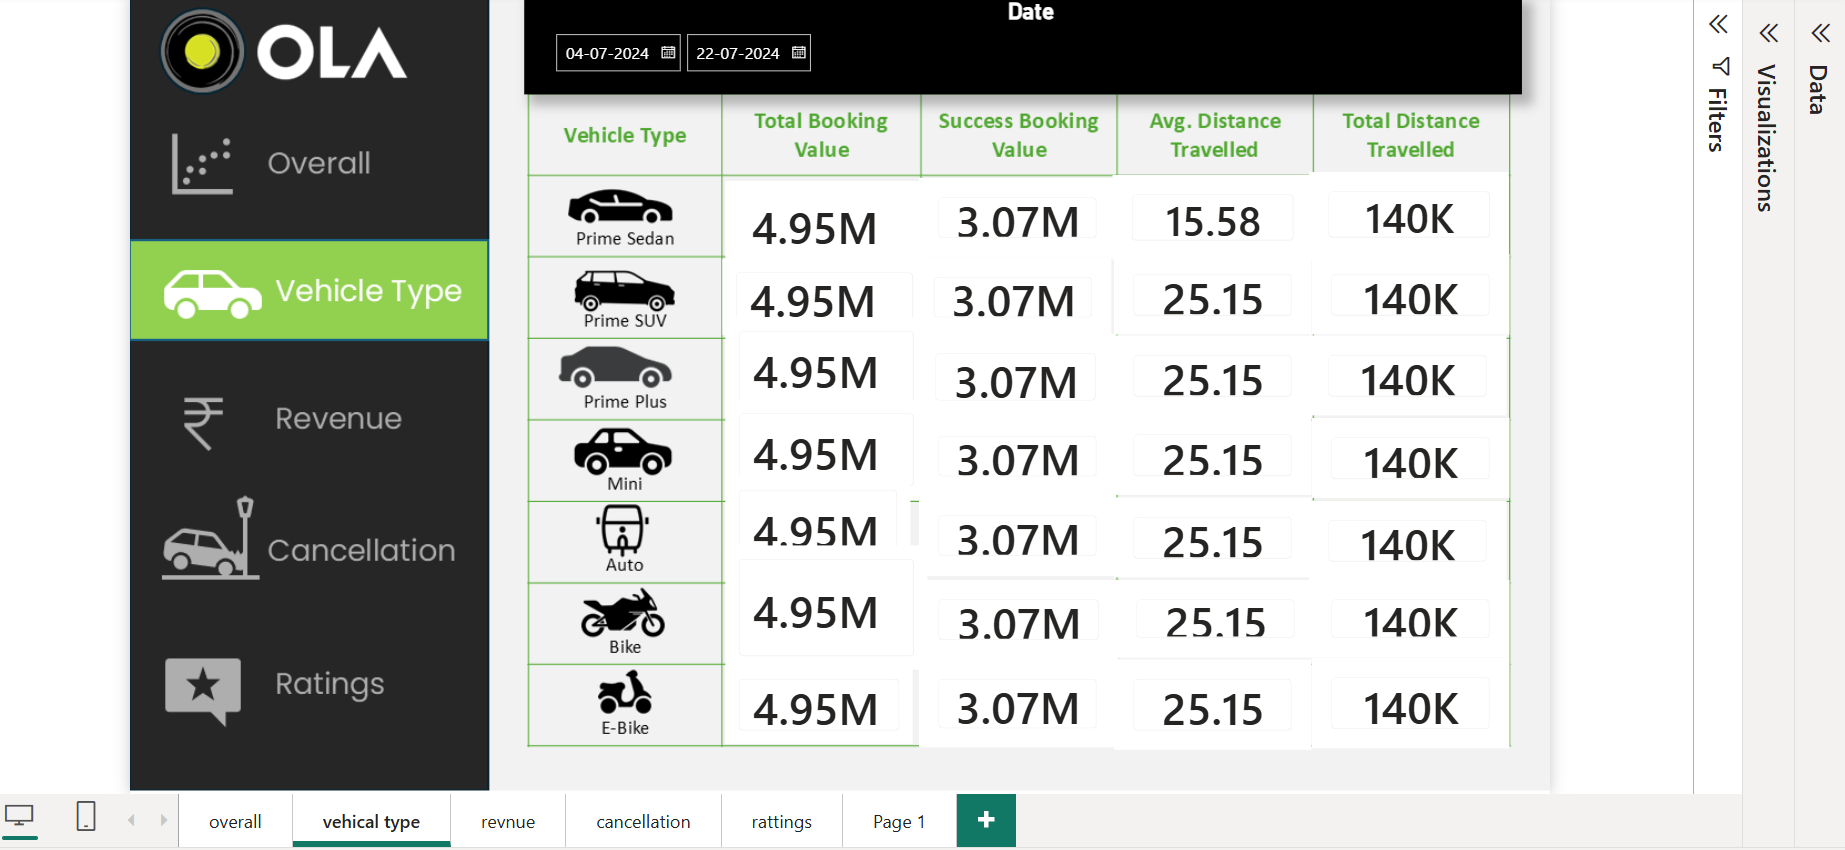

The dashboard page shown, as its layout file describes it:
{"tool":"powerbi","page":{"name":"vehical type","canvas":[1280,720],"ordinal":1},"visuals":[{"type":"actionButton","box":[0,108.1,320.4,93.3],"z":0},{"type":"actionButton","box":[0,220.3,320.4,93.3],"z":1000},{"type":"actionButton","box":[0,336.6,320.4,93.3],"z":2000},{"type":"actionButton","box":[0,451.5,320.4,93.3],"z":3000},{"type":"actionButton","box":[0,585.3,320.4,93.3],"z":4000},{"type":"cardVisual","fields":{"Data":["Sum(July.Booking_Value)"]},"box":[531,162.5,192.8,88.8],"z":5000},{"type":"cardVisual","fields":{"Data":["Sum(July.Booking_Value)"]},"box":[529.1,232.4,194.6,79.4],"z":6000},{"type":"cardVisual","fields":{"Data":["Sum(July.Booking_Value)"]},"box":[531,285.4,192.8,100.2],"z":7000},{"type":"cardVisual","fields":{"Data":["Sum(July.Booking_Value)"]},"box":[531,359.1,192.8,100.2],"z":8000},{"type":"cardVisual","fields":{"Data":["Sum(July.Booking_Value)"]},"box":[531,429,177.6,102],"z":9000},{"type":"cardVisual","fields":{"Data":["Sum(July.Booking_Value)"]},"box":[531,491.3,192.8,122.8],"z":10000},{"type":"cardVisual","fields":{"Data":["Sum(July.Booking_Value)"]},"box":[531,599.1,179.5,81.3],"z":11000},{"type":"cardVisual","fields":{"Data":["Sum(July.Booking_Value)"]},"box":[710.6,164.4,177.6,71.8],"z":12000},{"type":"cardVisual","fields":{"Data":["Sum(July.Booking_Value)"]},"box":[708.7,306.1,179.5,77.5],"z":13000},{"type":"cardVisual","fields":{"Data":["Sum(July.Booking_Value)"]},"box":[710.6,379.8,177.6,71.8],"z":14000},{"type":"cardVisual","fields":{"Data":["Sum(July.Booking_Value)"]},"box":[710.6,451.7,177.6,71.8],"z":15000},{"type":"cardVisual","fields":{"Data":["Sum(July.Booking_Value)"]},"box":[710.6,527.2,179.5,71.8],"z":16000},{"type":"cardVisual","fields":{"Data":["Sum(July.Booking_Value)"]},"box":[710.6,599.1,177.6,79.4],"z":17000},{"type":"cardVisual","fields":{"Data":["Sum(July.Booking_Value)"]},"box":[706.8,236.2,177.6,71.8],"z":18000},{"type":"slicer","title":"Date","fields":{"Values":["July.Date"]},"box":[356,2,898.6,87.8],"z":19000},{"type":"cardVisual","fields":{"Data":["Avg(July.Ride_Distance)"]},"box":[885.1,162.2,180.2,76.6],"z":20000},{"type":"cardVisual","fields":{"Data":["Avg(July.Ride_Distance)"]},"box":[887.4,234.2,177.9,72.1],"z":21000},{"type":"cardVisual","fields":{"Data":["Avg(July.Ride_Distance)"]},"box":[887.4,306.3,177.9,72.1],"z":22000},{"type":"cardVisual","fields":{"Data":["Avg(July.Ride_Distance)"]},"box":[887.4,378.4,177.9,72.1],"z":23000},{"type":"cardVisual","fields":{"Data":["Avg(July.Ride_Distance)"]},"box":[887.4,452.7,177.9,72.1],"z":24000},{"type":"cardVisual","fields":{"Data":["Avg(July.Ride_Distance)"]},"box":[889.6,527,177.9,69.8],"z":25000},{"type":"cardVisual","fields":{"Data":["Avg(July.Ride_Distance)"]},"box":[887.4,599.1,177.9,81.1],"z":26000},{"type":"cardVisual","fields":{"Data":["Sum(July.Ride_Distance)"]},"box":[1065.3,234.2,177.9,72.1],"z":27000},{"type":"cardVisual","fields":{"Data":["Sum(July.Ride_Distance)"]},"box":[1063,159.9,180.2,76.6],"z":28000},{"type":"cardVisual","fields":{"Data":["Sum(July.Ride_Distance)"]},"box":[1063,306.3,177.9,72.1],"z":29000},{"type":"cardVisual","fields":{"Data":["Sum(July.Ride_Distance)"]},"box":[1065.3,380.6,177.9,72.1],"z":30000},{"type":"cardVisual","fields":{"Data":["Sum(July.Ride_Distance)"]},"box":[1063,454.9,177.9,72.1],"z":31000},{"type":"cardVisual","fields":{"Data":["Sum(July.Ride_Distance)"]},"box":[1065.3,527,177.9,69.8],"z":32000},{"type":"cardVisual","fields":{"Data":["Sum(July.Ride_Distance)"]},"box":[1065.3,596.8,177.9,81.1],"z":33000}]}

Visuals, with their boxes on the page's 1280x720 design canvas (x1, y1, x2, y2). These are canvas units, not pixel positions in the 1845x850 screenshot, which may show the page scaled, cropped or inside an application window:
actionButton: locate(0, 108, 320, 201)
actionButton: locate(0, 220, 320, 314)
actionButton: locate(0, 337, 320, 430)
actionButton: locate(0, 452, 320, 545)
actionButton: locate(0, 585, 320, 679)
cardVisual - Sum(July.Booking_Value): locate(531, 162, 724, 251)
cardVisual - Sum(July.Booking_Value): locate(529, 232, 724, 312)
cardVisual - Sum(July.Booking_Value): locate(531, 285, 724, 386)
cardVisual - Sum(July.Booking_Value): locate(531, 359, 724, 459)
cardVisual - Sum(July.Booking_Value): locate(531, 429, 709, 531)
cardVisual - Sum(July.Booking_Value): locate(531, 491, 724, 614)
cardVisual - Sum(July.Booking_Value): locate(531, 599, 710, 680)
cardVisual - Sum(July.Booking_Value): locate(711, 164, 888, 236)
cardVisual - Sum(July.Booking_Value): locate(709, 306, 888, 384)
cardVisual - Sum(July.Booking_Value): locate(711, 380, 888, 452)
cardVisual - Sum(July.Booking_Value): locate(711, 452, 888, 524)
cardVisual - Sum(July.Booking_Value): locate(711, 527, 890, 599)
cardVisual - Sum(July.Booking_Value): locate(711, 599, 888, 678)
cardVisual - Sum(July.Booking_Value): locate(707, 236, 884, 308)
"Date" slicer: locate(356, 2, 1255, 90)
cardVisual - Avg(July.Ride_Distance): locate(885, 162, 1065, 239)
cardVisual - Avg(July.Ride_Distance): locate(887, 234, 1065, 306)
cardVisual - Avg(July.Ride_Distance): locate(887, 306, 1065, 378)
cardVisual - Avg(July.Ride_Distance): locate(887, 378, 1065, 450)
cardVisual - Avg(July.Ride_Distance): locate(887, 453, 1065, 525)
cardVisual - Avg(July.Ride_Distance): locate(890, 527, 1068, 597)
cardVisual - Avg(July.Ride_Distance): locate(887, 599, 1065, 680)
cardVisual - Sum(July.Ride_Distance): locate(1065, 234, 1243, 306)
cardVisual - Sum(July.Ride_Distance): locate(1063, 160, 1243, 236)
cardVisual - Sum(July.Ride_Distance): locate(1063, 306, 1241, 378)
cardVisual - Sum(July.Ride_Distance): locate(1065, 381, 1243, 453)
cardVisual - Sum(July.Ride_Distance): locate(1063, 455, 1241, 527)
cardVisual - Sum(July.Ride_Distance): locate(1065, 527, 1243, 597)
cardVisual - Sum(July.Ride_Distance): locate(1065, 597, 1243, 678)
